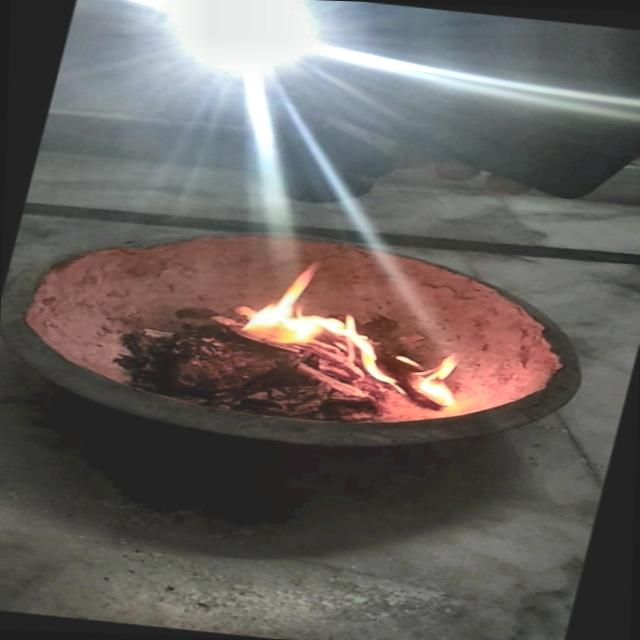fire: (242, 236, 404, 356)
